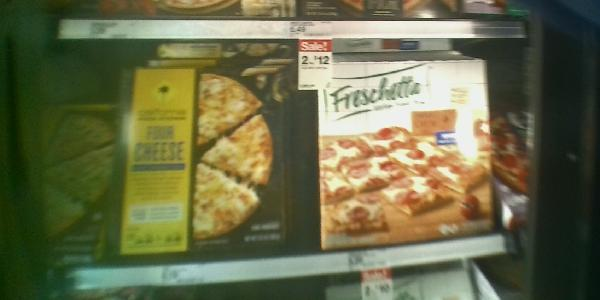pizza: (123, 62, 293, 261), (318, 62, 504, 242)
pizza1: (149, 39, 297, 62), (308, 39, 453, 58)
